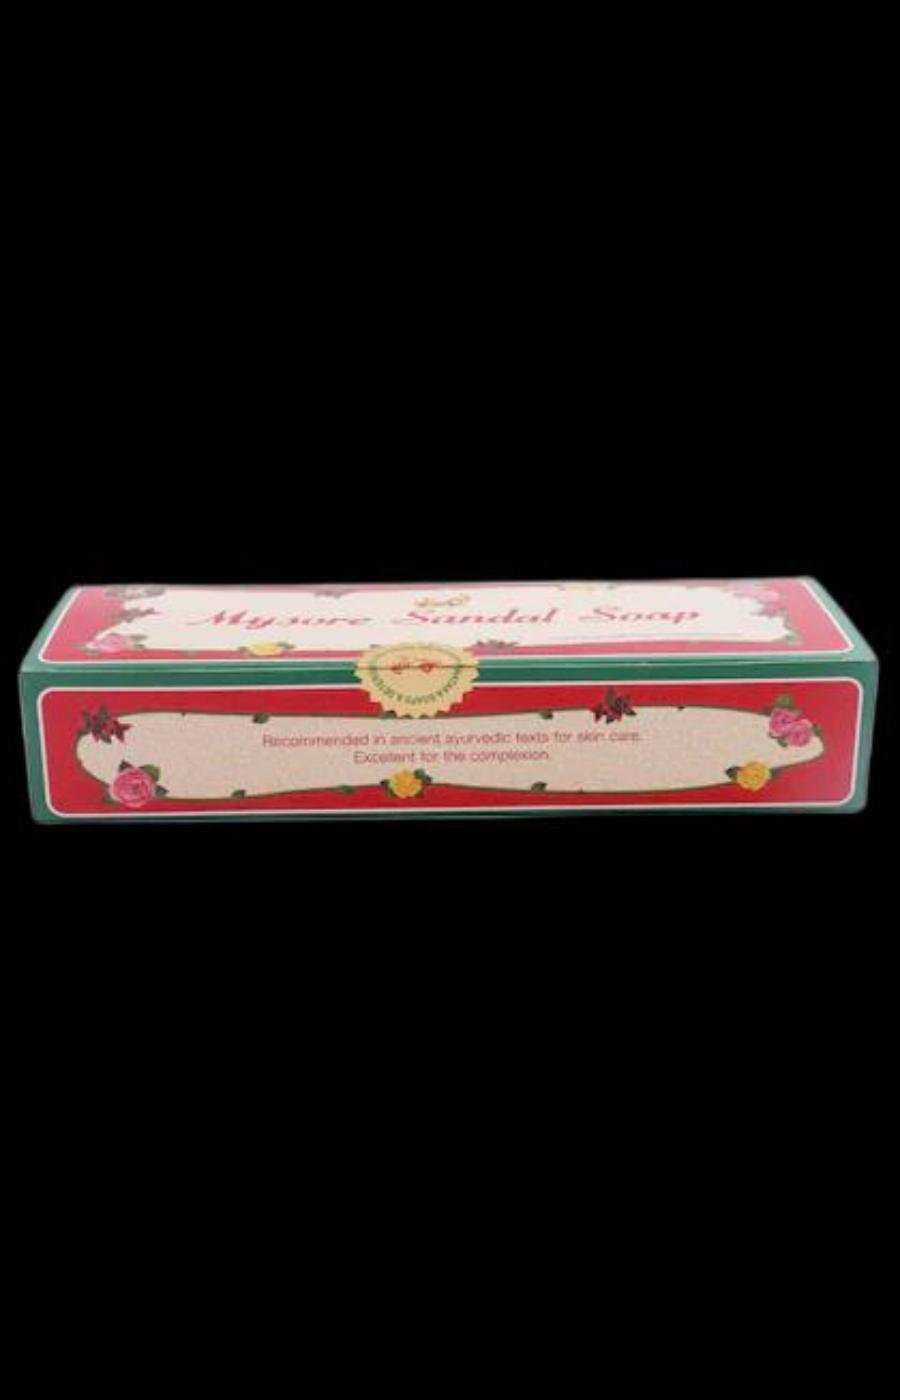Mysore Sandal Soap 150 g -Pack of 3-: (18, 580, 880, 816)
